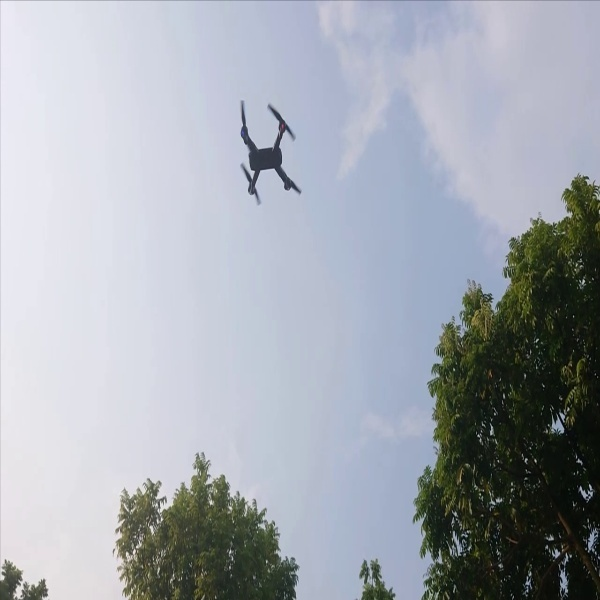drone: (229, 90, 310, 217)
